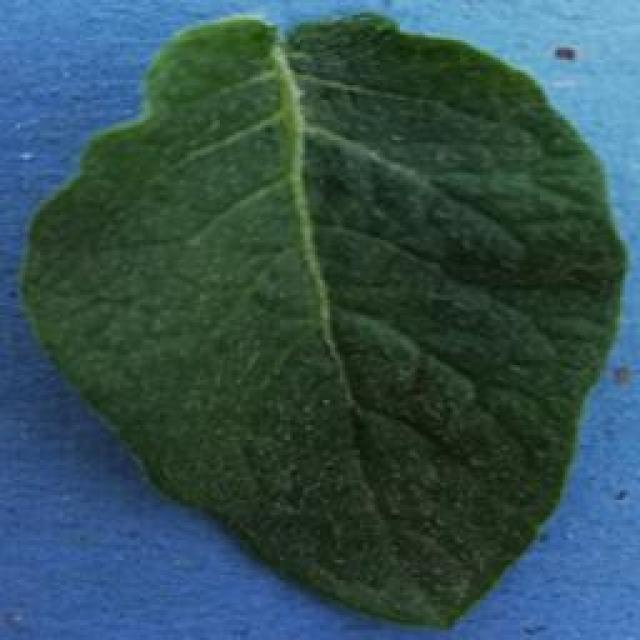Potato_Healthy: (21, 12, 620, 627)
